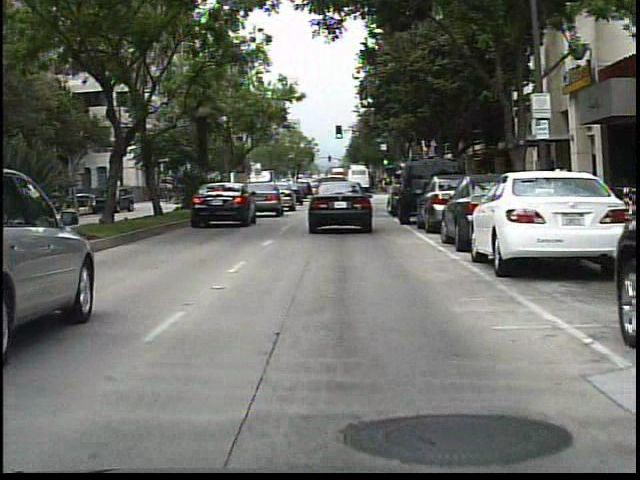person: (548, 157, 572, 215)
